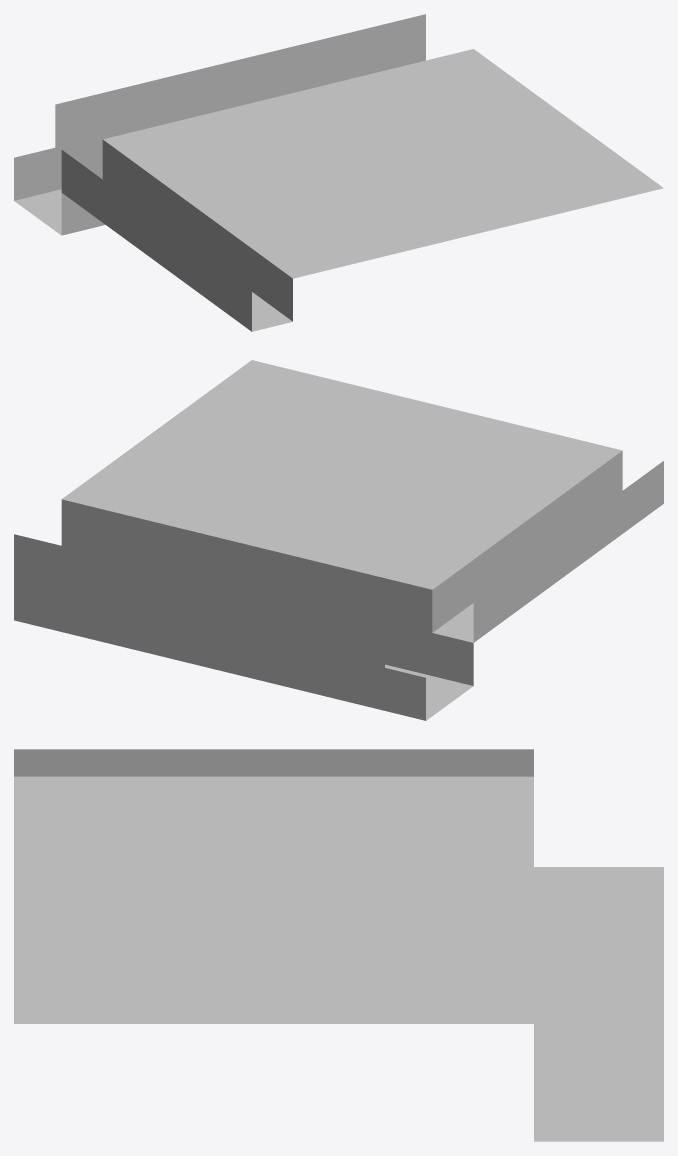
File: CeilingBeam.fbx
The picture shows the model from 3 angles, top to bottom: view 1: azimuth 30°, elevation 25°; view 2: azimuth 150°, elevation 25°; view 3: azimuth 270°, elevation 25°; orthographic projection. The views are drawn at different scales.
Parts seen in each view (by area): view 1: CeilingBeam; view 2: CeilingBeam; view 3: CeilingBeam.
Boxes of the visible parts, x1,y1,x2,y2 form: CeilingBeam: (14, 14, 663, 331); CeilingBeam: (14, 360, 663, 720); CeilingBeam: (14, 749, 663, 1141).
Size of the model in its own units: 100 by 20 by 100.
1 material, 1 textured.
